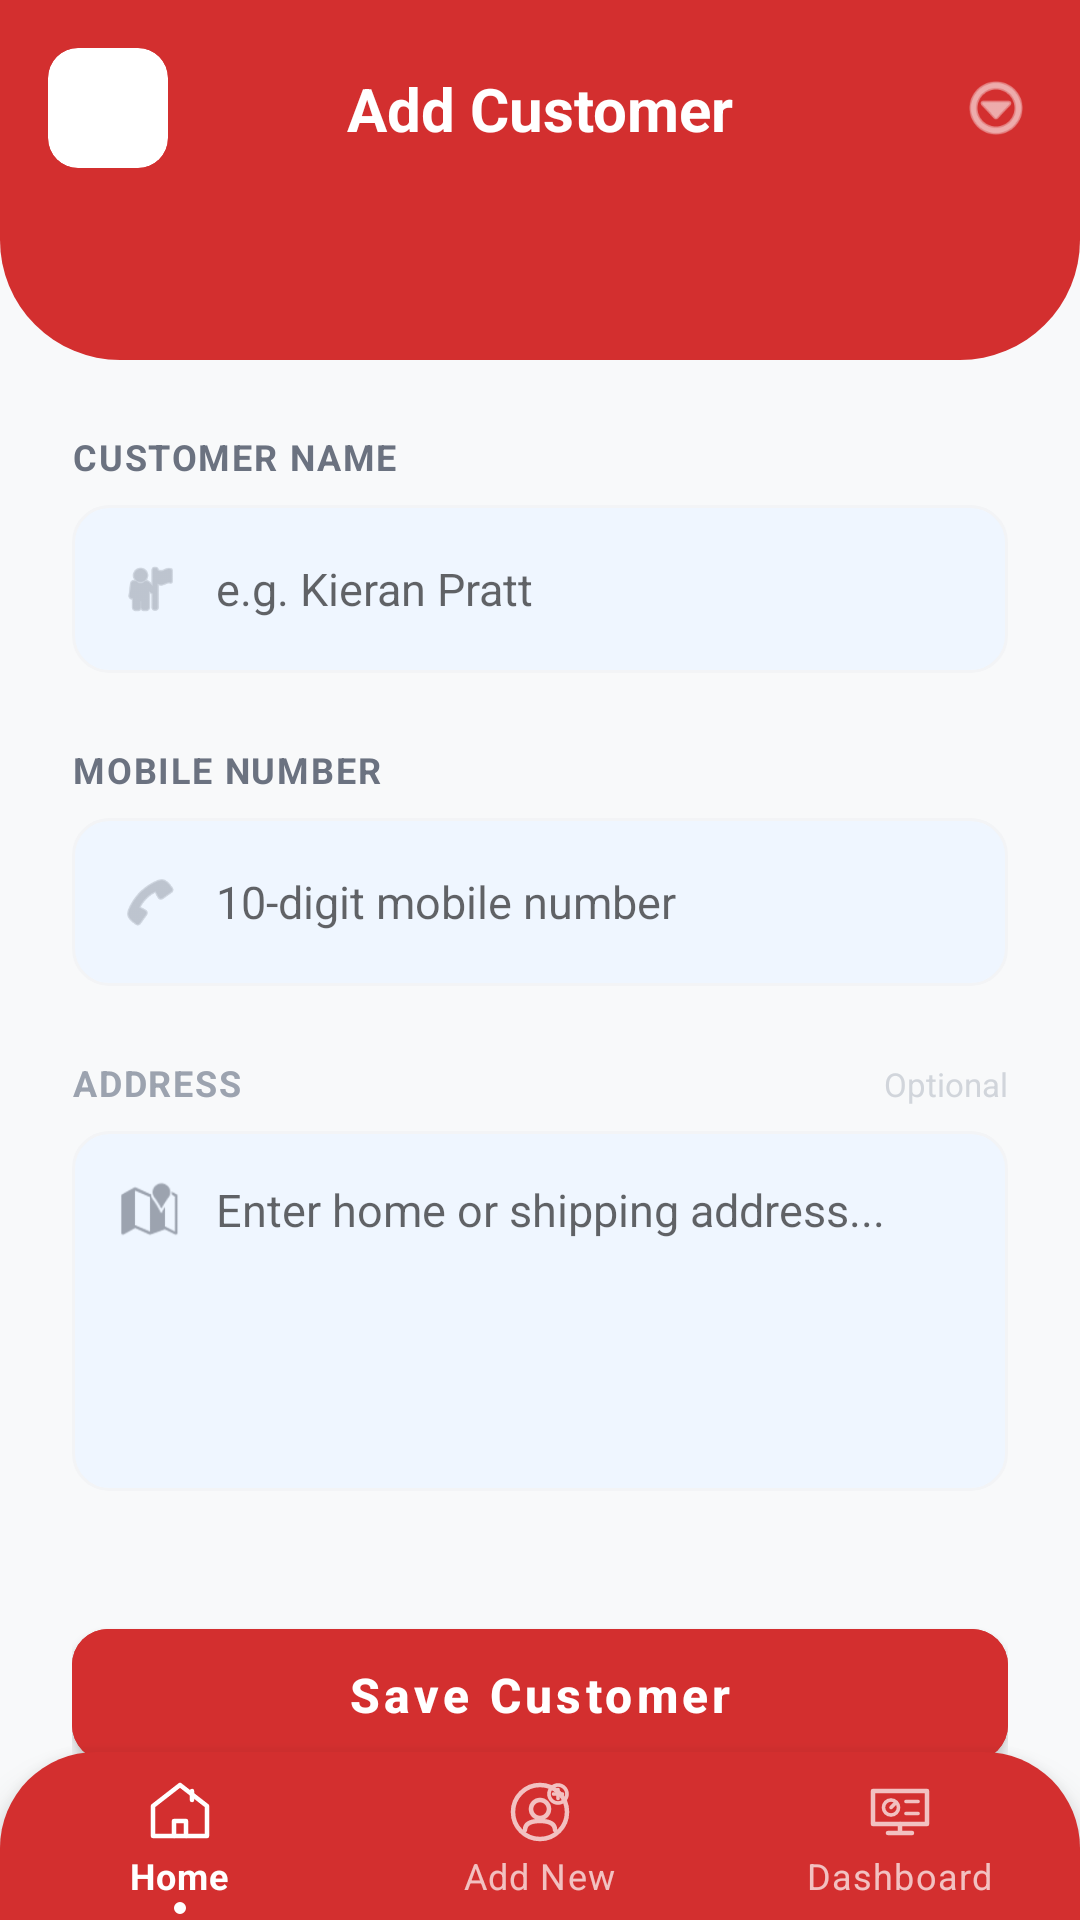

Icon bounding boxes for this 1080w x 1920h phone screenshot, format (x1, y1, x2, y2):
call: (127, 879, 173, 925)
map: (121, 1183, 178, 1235)
more: (969, 81, 1023, 135)
myplaces: (129, 567, 173, 611)
